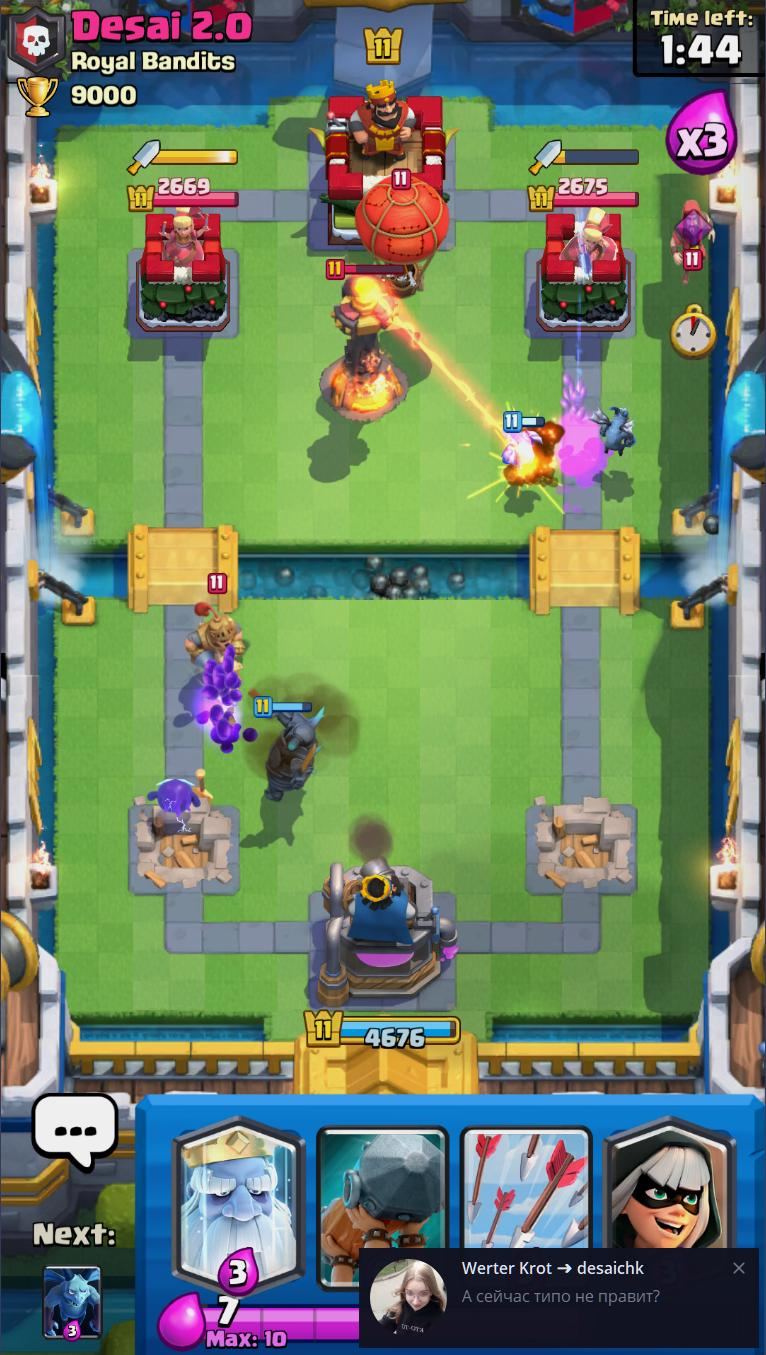ArrowDeck: (454, 1094, 599, 1246)
Balloon: (353, 167, 454, 299)
BanditDeck: (597, 1094, 741, 1249)
BattleRamDeck: (313, 1094, 456, 1293)
DaggerDuchess: (556, 204, 614, 266), (160, 207, 210, 266)
Daggers: (129, 140, 239, 179), (530, 139, 641, 171)
Elixir: (201, 1296, 359, 1351)
EnemyTower: (534, 210, 634, 336), (136, 209, 233, 331)
Inferno: (320, 257, 411, 426)
KingTower: (306, 80, 460, 254)
MinionsNext: (40, 1263, 104, 1341)
MyElectroSpirit: (147, 776, 203, 813)
MyKingHP: (306, 1009, 461, 1050)
MyKingTower: (314, 860, 460, 1007)
MyMinion: (500, 410, 547, 476), (589, 406, 641, 457)
MyPekka: (249, 696, 327, 807)
MyPrincessTowerBrocken: (131, 800, 243, 897), (529, 801, 639, 891)
Prince: (183, 574, 250, 681)
RoyaleGhostDeck: (166, 1093, 311, 1293)
TowerPrincessHP: (530, 176, 640, 211), (127, 177, 240, 211)
Wizard: (670, 199, 719, 289)
